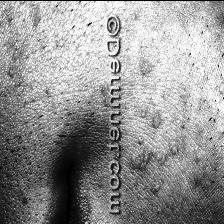Toxin: (132, 132, 150, 173), (138, 50, 154, 79)
